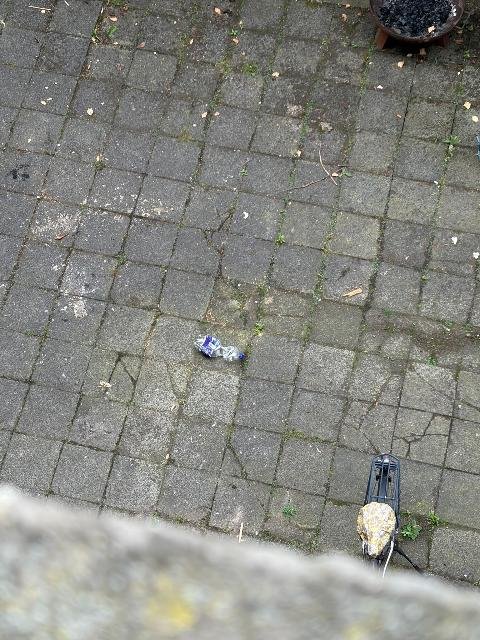plastic_bottle: (192, 337, 245, 362)
